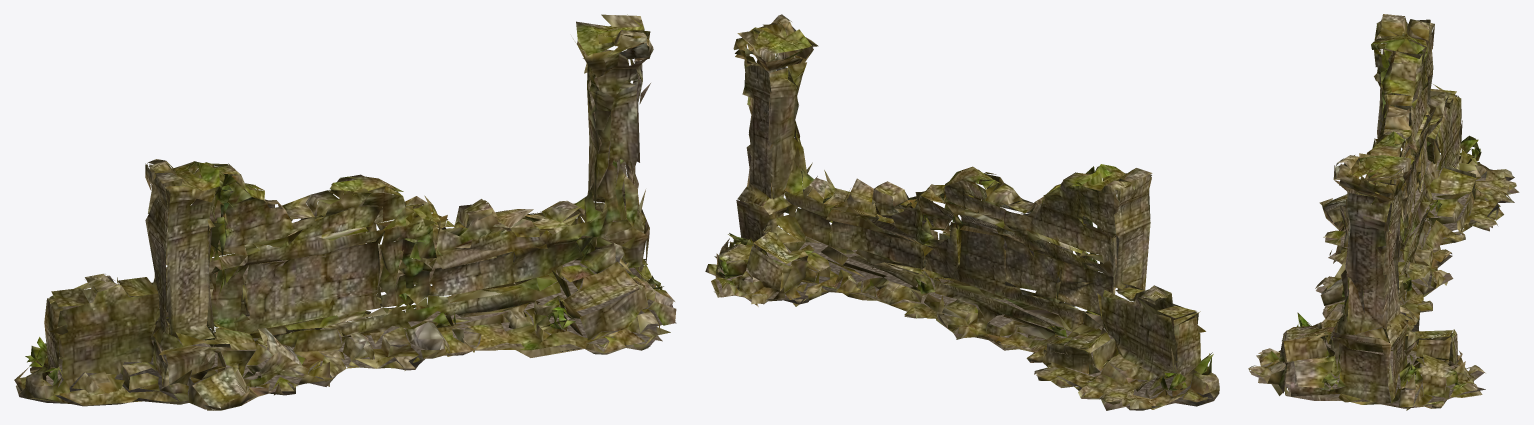
File: ruina_muro_lod1.glb
3 renders of one model, left to right at view 1: azimuth 30°, elevation 25°; view 2: azimuth 150°, elevation 25°; view 3: azimuth 270°, elevation 25°, orthographic. The views are drawn at different scales.
Visible parts, largest first — view 1: ruina_muro; view 2: ruina_muro; view 3: ruina_muro.
Boxes of the visible parts, <box> form: ruina_muro: <box>14,14,676,410</box>; ruina_muro: <box>705,14,1219,410</box>; ruina_muro: <box>1248,14,1519,410</box>.
Bounding box in the file's own units: 8.31 × 3.57 × 3.67.
1 material, 1 textured.
